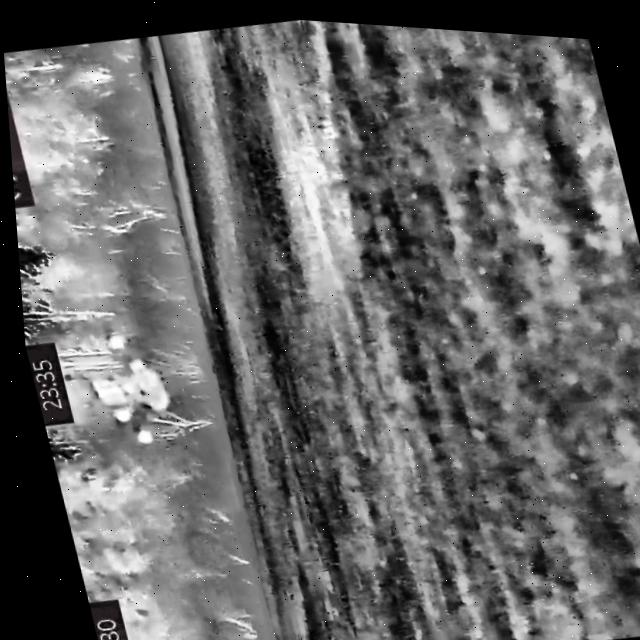drone: (75, 322, 174, 449)
